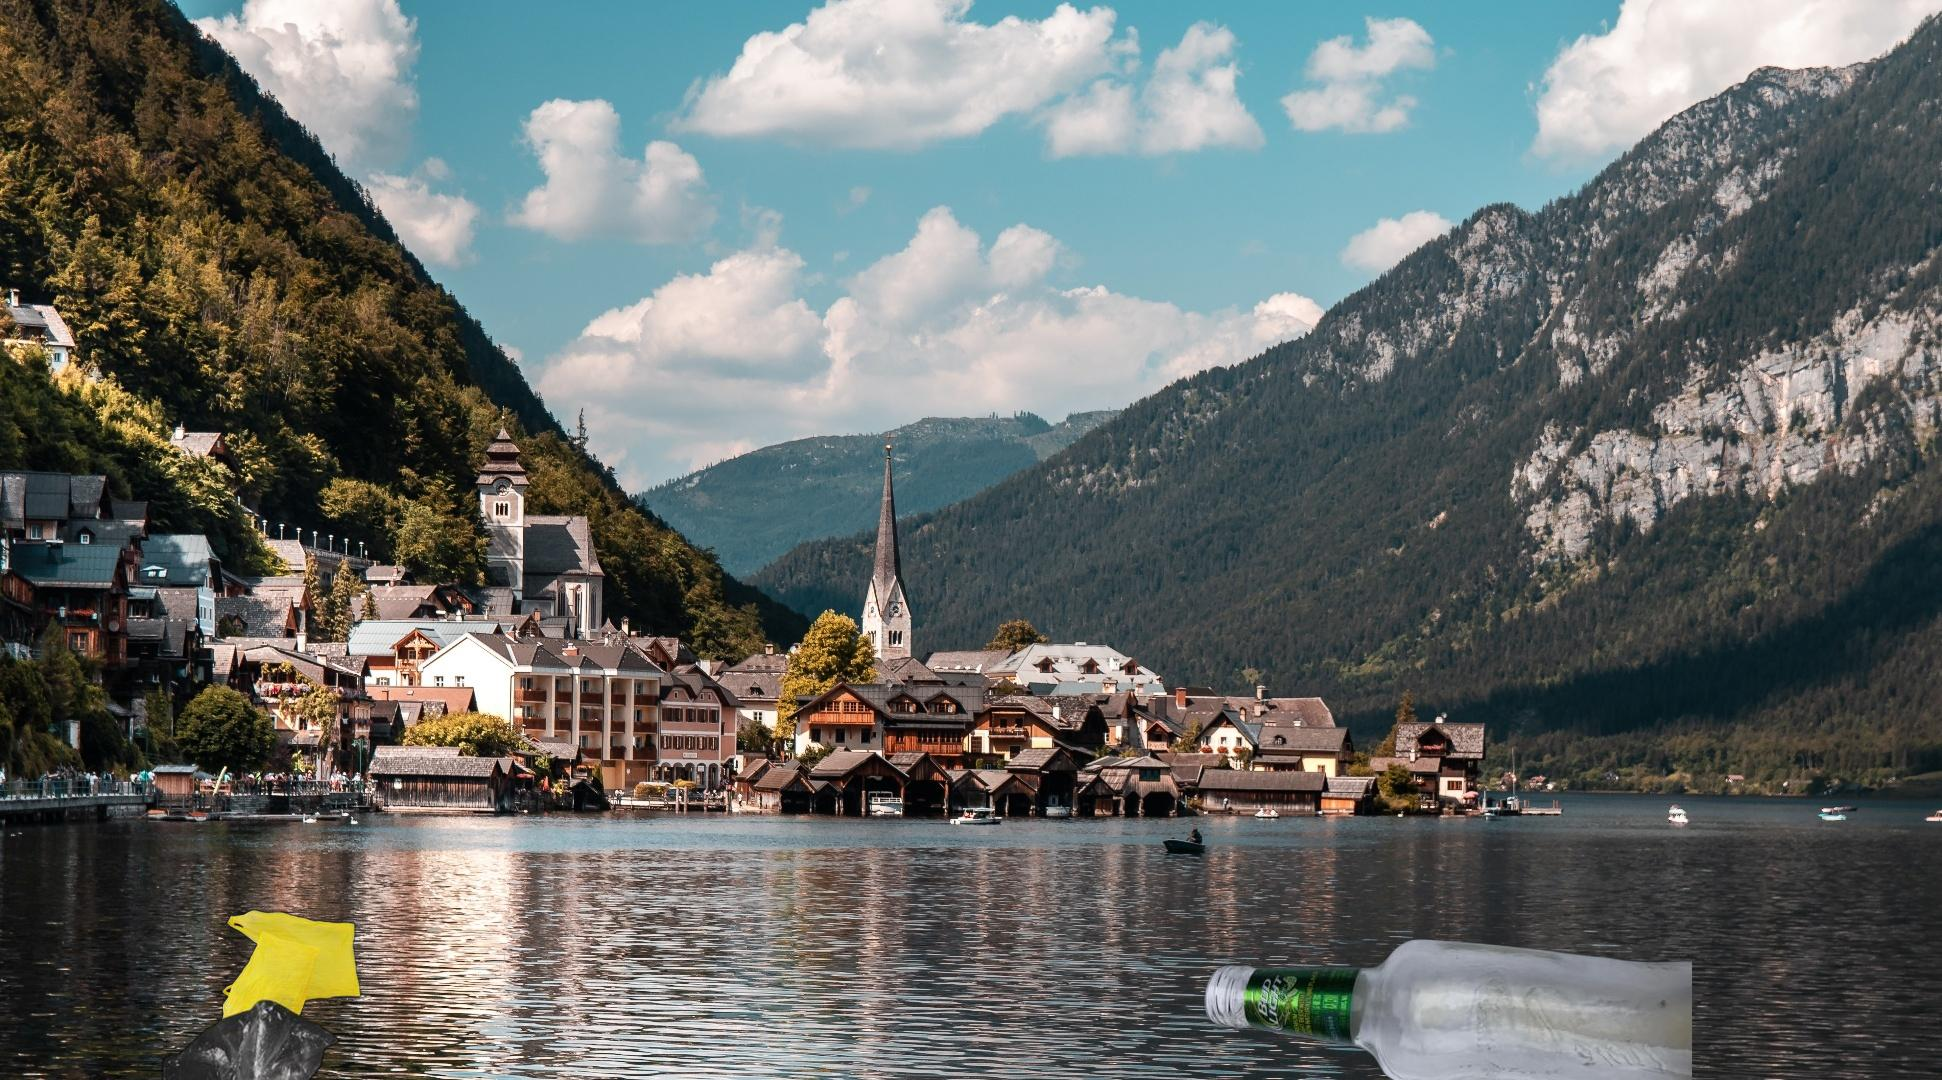glass: (1200, 936, 1692, 1080)
plastic-bag: (158, 902, 364, 1080)
